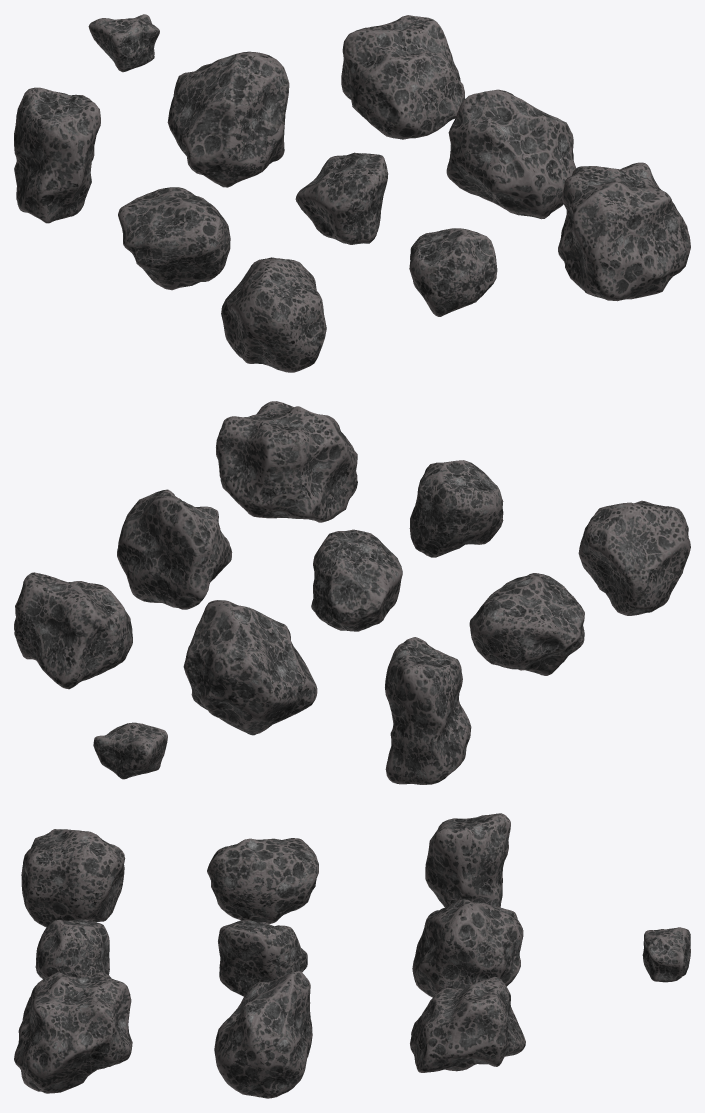
The model's file is asteroids_pack_metallic_version.glb.
3 renders of one model, top to bottom at view 1: azimuth 30°, elevation 25°; view 2: azimuth 150°, elevation 25°; view 3: azimuth 270°, elevation 25°, orthographic. The views are drawn at different scales.
Parts seen in each view (by area): view 1: Asteroid_no_1_Material #3_0, Asteroid_no_8_Material #3_0, Asteroid_no_4_Material #3_0, Asteroid_no_7_Material #3_0, Asteroid_no_9_Material #3_0, Asteroid_no_3_Material #3_0, Asteroid_no_6_Material #3_0, Asteroid_no_5_Material #3_0, Asteroid_no_2_Material #3_0, Asteroid_no_10_Material #3_0; view 2: Asteroid_no_1_Material #3_0, Asteroid_no_8_Material #3_0, Asteroid_no_7_Material #3_0, Asteroid_no_9_Material #3_0, Asteroid_no_4_Material #3_0, Asteroid_no_3_Material #3_0, Asteroid_no_6_Material #3_0, Asteroid_no_5_Material #3_0, Asteroid_no_2_Material #3_0, Asteroid_no_10_Material #3_0; view 3: Asteroid_no_1_Material #3_0, Asteroid_no_4_Material #3_0, Asteroid_no_3_Material #3_0, Asteroid_no_8_Material #3_0, Asteroid_no_7_Material #3_0, Asteroid_no_6_Material #3_0, Asteroid_no_9_Material #3_0, Asteroid_no_5_Material #3_0, Asteroid_no_2_Material #3_0, Asteroid_no_10_Material #3_0.
Boxes of the visible parts, left/top/right/bottom form: Asteroid_no_1_Material #3_0: left=558, top=162, right=690, bottom=301; Asteroid_no_8_Material #3_0: left=167, top=51, right=289, bottom=187; Asteroid_no_4_Material #3_0: left=446, top=89, right=576, bottom=219; Asteroid_no_7_Material #3_0: left=341, top=15, right=464, bottom=139; Asteroid_no_9_Material #3_0: left=14, top=87, right=100, bottom=223; Asteroid_no_3_Material #3_0: left=221, top=257, right=326, bottom=372; Asteroid_no_6_Material #3_0: left=118, top=187, right=230, bottom=290; Asteroid_no_5_Material #3_0: left=295, top=152, right=388, bottom=244; Asteroid_no_2_Material #3_0: left=409, top=228, right=497, bottom=316; Asteroid_no_10_Material #3_0: left=88, top=14, right=159, bottom=72; Asteroid_no_1_Material #3_0: left=216, top=401, right=357, bottom=522; Asteroid_no_8_Material #3_0: left=183, top=600, right=317, bottom=735; Asteroid_no_7_Material #3_0: left=14, top=572, right=132, bottom=689; Asteroid_no_9_Material #3_0: left=385, top=637, right=471, bottom=784; Asteroid_no_4_Material #3_0: left=117, top=489, right=232, bottom=609; Asteroid_no_3_Material #3_0: left=578, top=500, right=690, bottom=615; Asteroid_no_6_Material #3_0: left=469, top=573, right=584, bottom=675; Asteroid_no_5_Material #3_0: left=311, top=529, right=402, bottom=631; Asteroid_no_2_Material #3_0: left=409, top=460, right=503, bottom=557; Asteroid_no_10_Material #3_0: left=93, top=722, right=167, bottom=779; Asteroid_no_1_Material #3_0: left=14, top=972, right=132, bottom=1093; Asteroid_no_4_Material #3_0: left=214, top=971, right=312, bottom=1098; Asteroid_no_3_Material #3_0: left=21, top=829, right=125, bottom=927; Asteroid_no_8_Material #3_0: left=412, top=899, right=523, bottom=997; Asteroid_no_7_Material #3_0: left=410, top=977, right=525, bottom=1072; Asteroid_no_6_Material #3_0: left=207, top=838, right=318, bottom=923; Asteroid_no_9_Material #3_0: left=425, top=813, right=510, bottom=907; Asteroid_no_5_Material #3_0: left=218, top=920, right=307, bottom=996; Asteroid_no_2_Material #3_0: left=35, top=919, right=109, bottom=978; Asteroid_no_10_Material #3_0: left=642, top=927, right=690, bottom=982.
Size of the model in its own units: 34.3 by 9.09 by 48.14.
1 material, 1 textured.
